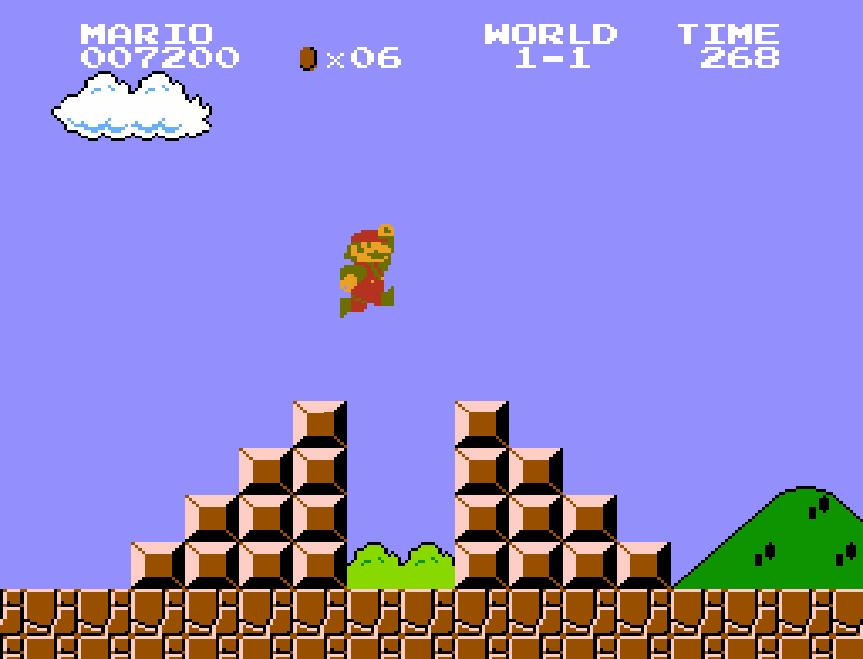big_mario: (338, 221, 396, 320)
